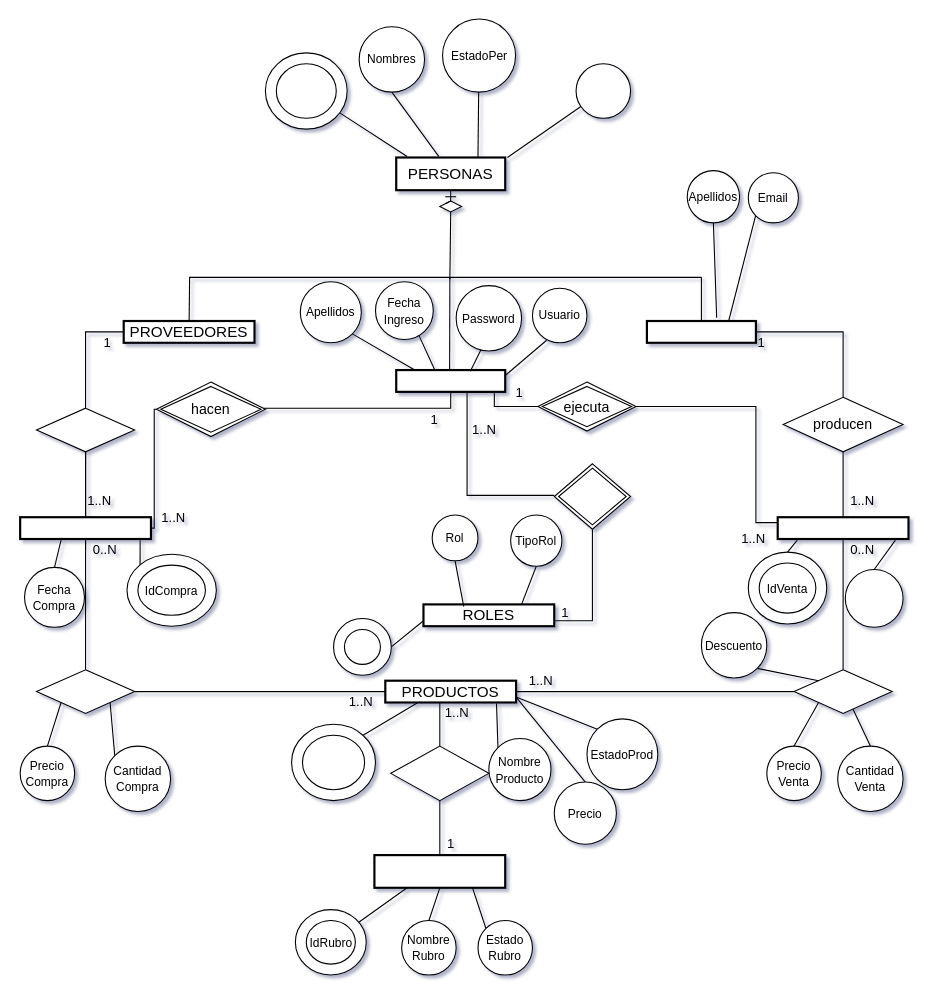
The diagram is 934 pixels wide and 1001 high, and some of its shapes have lost their labels. The box of each missing label's shape, as (x1, y1, x2, y2) in pixels:
CLIENTES: (645, 319, 756, 343)
COMPRAS: (19, 516, 152, 540)
contienen: (35, 669, 135, 713)
EMPLEADOS: (395, 368, 506, 392)
Fecha Venta: (844, 568, 903, 627)
fijan: (553, 463, 631, 529)
idPersona: (264, 52, 347, 129)
IdProducto: (290, 723, 376, 801)
IdRol: (332, 617, 391, 675)
pertenecen: (390, 745, 489, 801)
RUBROS: (373, 853, 506, 888)
se efectuan: (35, 407, 135, 452)
se realizan: (793, 669, 892, 713)
Telefono: (575, 63, 631, 118)
VENTAS: (776, 516, 909, 540)
